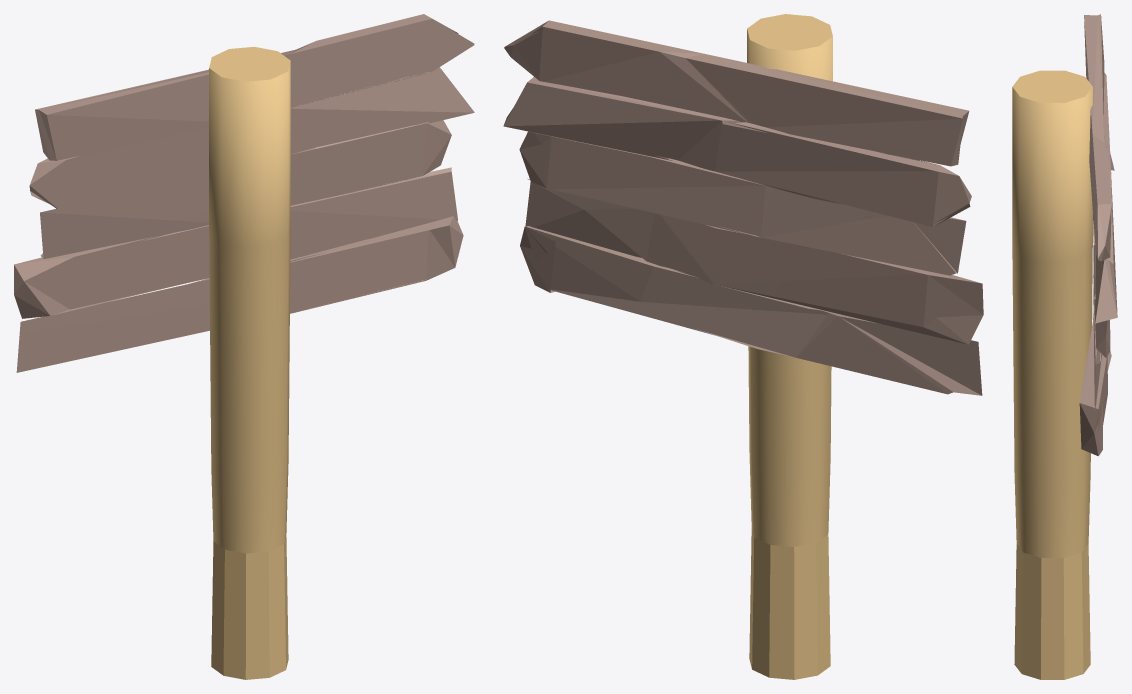
Rendered from sign.fbx.
3 views of the same model, side by side, from view 1: azimuth 30°, elevation 25°; view 2: azimuth 150°, elevation 25°; view 3: azimuth 270°, elevation 25° (orthographic). The views are drawn at different scales.
Parts seen in each view (by area): view 1: model; view 2: model; view 3: model.
Part boxes in pixels (x1=…): model: x1=14, y1=14, x2=474, y2=679; model: x1=503, y1=14, x2=983, y2=679; model: x1=1012, y1=14, x2=1117, y2=679.
Bounding box in the file's own units: 108 × 135 × 22.36.
